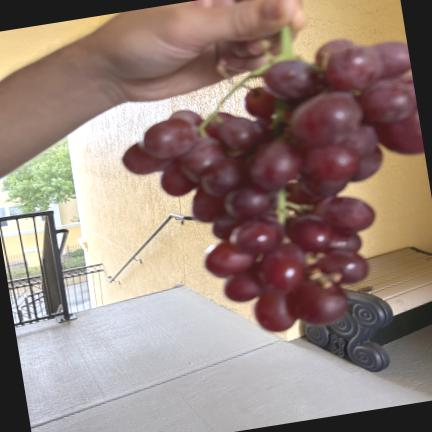grape_cluster: (123, 27, 425, 332)
